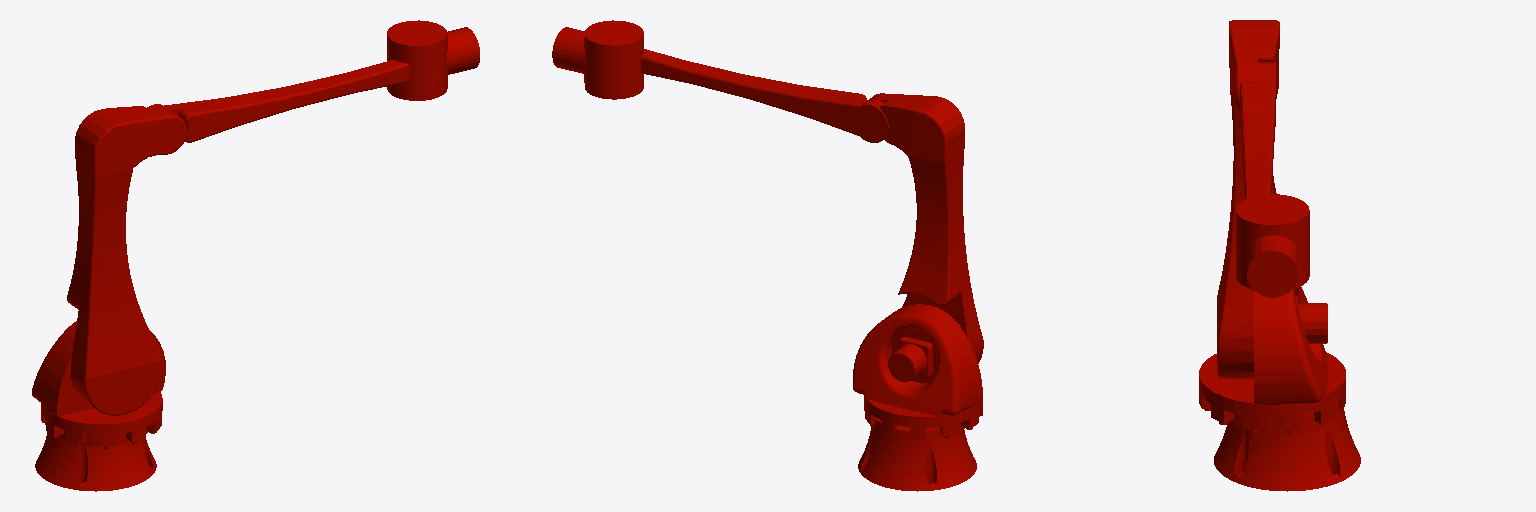
URDF robot description (Draw_armV8):
<?xml version="1.0" encoding="utf-8"?>
<!-- This URDF was automatically created by SolidWorks to URDF Exporter! Originally created by [author] ([email redacted]) 
     Commit Version: 1.6.0-4-g7f85cfe  Build Version: 1.6.7995.38578
     For more information, please see http://wiki.ros.org/sw_urdf_exporter -->
<robot
  name="Draw_armV8">
  <link
    name="Plate">
    <inertial>
      <origin
        xyz="-2.6801E-07 -8.8532E-08 -0.019446"
        rpy="0 0 0" />
      <mass
        value="0.24996" />
      <inertia
        ixx="0.00016213"
        ixy="9.9491E-10"
        ixz="6.1584E-10"
        iyy="0.00016214"
        iyz="-2.0834E-10"
        izz="0.00023549" />
    </inertial>
    <visual>
      <origin
        xyz="0 0 0"
        rpy="-1.57075 0 0" />
      <geometry>
        <mesh
          filename="Plate.STL" />
      </geometry>
      <material
        name="">
        <color
          rgba="0.7098 0.058824 0 1" />
      </material>
    </visual>
    <collision>
      <origin
        xyz="0 0 0"
        rpy="0 0 0" />
      <geometry>
        <mesh
          filename="Plate.STL" />
      </geometry>
    </collision>
  </link>

  <link
    name="body1">
    <inertial>
      <origin
        xyz="0.0014838 0.0040898 0.033771"
        rpy="-1.57075 0 0" />
      <mass
        value="0.4108" />
      <inertia
        ixx="0.00042222"
        ixy="-1.1749E-06"
        ixz="-1.5871E-05"
        iyy="0.0005534"
        iyz="-2.1926E-05"
        izz="0.00040755" />
    </inertial>
    <visual>
      <origin
        xyz="0 0 0"
        rpy="0 0 0" />
      <geometry>
        <mesh
          filename="body1.STL" />
      </geometry>
      <material
        name="">
        <color
          rgba="0.7098 0.058824 0 1" />
      </material>
    </visual>
    <collision>
      <origin
        xyz="0 0 0"
        rpy="-1.57075 0 0" />
      <geometry>
        <mesh
          filename="body1.STL" />
      </geometry>
    </collision>
  </link>
  <joint
    name="jnt1"
    type="revolute">
    <origin
      xyz="0 -0.01 0"
      rpy="0 0 0" />
    <parent
      link="Plate" />
    <child
      link="body1" />
    <axis
      xyz="0 0 1" />
    <limit
      lower="-3.14"
      upper="3.14"
      effort="0"
      velocity="0" />
  </joint>
  <link
    name="body2">
    <inertial>
      <origin
        xyz="0.00014 -0.01658 0.093281"
        rpy="0 0 0" />
      <mass
        value="0.36778" />
      <inertia
        ixx="0.0025139"
        ixy="2.2378E-06"
        ixz="-0.00011569"
        iyy="0.0026074"
        iyz="-0.00011168"
        izz="0.00016572" />
    </inertial>
    <visual>
      <origin
        xyz="0 0 0"
        rpy="0 0 0" />
      <geometry>
        <mesh
          filename="body2.STL" />
      </geometry>
      <material
        name="">
        <color
          rgba="0.7098 0.058824 0 1" />
      </material>
    </visual>
    <collision>
      <origin
        xyz="0 0 0"
        rpy="0 0 0" />
      <geometry>
        <mesh
          filename="body2.STL" />
      </geometry>
    </collision>
  </link>
  <joint
    name="jnt2"
    type="revolute">
    <origin
      xyz="0 0 0.0625"
      rpy="0 0 0" />
    <parent
      link="body1" />
    <child
      link="body2" />
    <axis
      xyz="0 1 0" />
    <limit
      lower="-1.5708"
      upper="1.5708"
      effort="0"
      velocity="0" />
  </joint>
  <link
    name="body3">
    <inertial>
      <origin
        xyz="0.097586 -0.009092 -5.2376E-08"
        rpy="0 0 0" />
      <mass
        value="0.089911" />
      <inertia
        ixx="6.5029E-06"
        ixy="7.8642E-06"
        ixz="-2.7759E-10"
        iyy="0.00053555"
        iyz="-2.4176E-11"
        izz="0.00053564" />
    </inertial>
    <visual>
      <origin
        xyz="0 0 0"
        rpy="0 0 0" />
      <geometry>
        <mesh
          filename="body3.STL" />
      </geometry>
      <material
        name="">
        <color
          rgba="0.7098 0.058824 0 1" />
      </material>
    </visual>
    <collision>
      <origin
        xyz="0 0 0"
        rpy="0 0 0" />
      <geometry>
        <mesh
          filename="body3.STL" />
      </geometry>
    </collision>
  </link>
  <joint
    name="jnt3"
    type="revolute">
    <origin
      xyz="0.05 0 0.2"
      rpy="0 0 0" />
    <parent
      link="body2" />
    <child
      link="body3" />
    <axis
      xyz="0 1 0" />
    <limit
      lower="-2.094"
      upper="2.094"
      effort="0"
      velocity="0" />
  </joint>
  <link
    name="body4">
    <inertial>
      <origin
        xyz="0.02895 -0.01 -0.0044214"
        rpy="0 0 0" />
      <mass
        value="0.026113" />
      <inertia
        ixx="1.4978E-05"
        ixy="-1.3324E-12"
        ixz="2.3094E-07"
        iyy="1.8293E-05"
        iyz="8.6201E-12"
        izz="5.0721E-06" />
    </inertial>
    <visual>
      <origin
        xyz="0 0 0"
        rpy="0 0 0" />
      <geometry>
        <mesh
          filename="body4.STL" />
      </geometry>
      <material
        name="">
        <color
          rgba="0.7098 0.058824 0 1" />
      </material>
    </visual>
    <collision>
      <origin
        xyz="0 0 0"
        rpy="0 0 0" />
      <geometry>
        <mesh
          filename="body4.STL" />
      </geometry>
    </collision>
  </link>
  <joint
    name="jnt4"
    type="revolute">
    <origin
      xyz="0.25 0 0"
      rpy="0 0 0" />
    <parent
      link="body3" />
    <child
      link="body4" />
    <axis
      xyz="0 1 0" />
    <limit
      lower="-3.927"
      upper="0.785"
      effort="0"
      velocity="0" />
  </joint>
</robot>

--- Facts derived from the render (not from the file) ---
Views: 3 orthographic renders of the robot side by side, from view 1: azimuth 30°, elevation 25°; view 2: azimuth 150°, elevation 25°; view 3: azimuth 270°, elevation 25°.
Robot: Draw_armV8 — 5 links, 4 joints (4 revolute); root link Plate; default pose: all joints at 0.
Visible links, largest first — view 1: body2, body1, body3, body4, Plate; view 2: body2, body1, body3, Plate, body4; view 3: body1, Plate, body2, body4, body3.
Boxes of the visible links, bbox=[...] form: body2: bbox=[67, 106, 186, 415]; body1: bbox=[32, 321, 165, 448]; body3: bbox=[147, 60, 408, 142]; body4: bbox=[387, 20, 479, 100]; Plate: bbox=[35, 432, 156, 491]; body2: bbox=[869, 93, 983, 363]; body1: bbox=[853, 304, 982, 440]; body3: bbox=[641, 49, 888, 142]; Plate: bbox=[858, 418, 976, 491]; body4: bbox=[552, 20, 643, 99]; body1: bbox=[1199, 287, 1345, 433]; Plate: bbox=[1214, 402, 1360, 491]; body2: bbox=[1217, 20, 1279, 378]; body4: bbox=[1236, 194, 1309, 297]; body3: bbox=[1240, 62, 1275, 198].
Size in the robot's own frame: 0.4001 by 0.1099 by 0.3275 metres.
Meshes: 5 distinct files referenced, 5 mesh visuals loaded (5 binary STL).